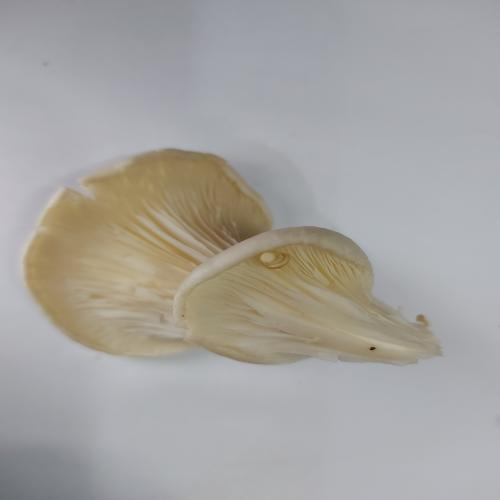Oyster Mushroom: (172, 225, 443, 367)
